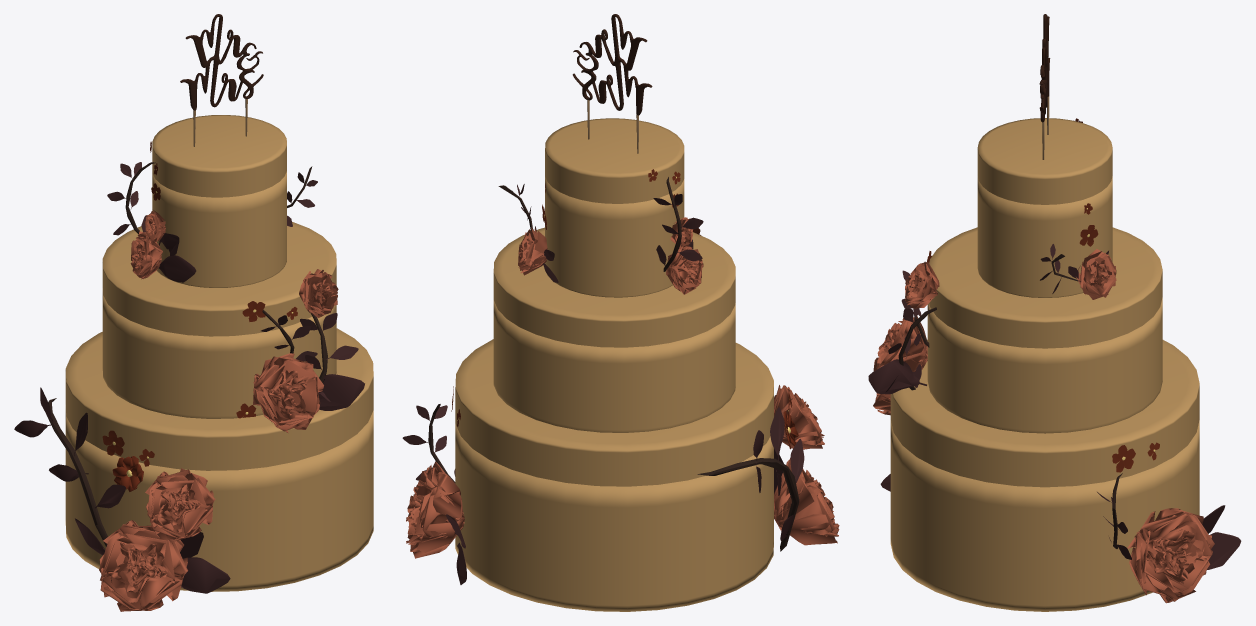
Rendered from 3-tier-caramel-roses-mrms.glb.
3 views of the same model, side by side, from view 1: azimuth 30°, elevation 25°; view 2: azimuth 150°, elevation 25°; view 3: azimuth 270°, elevation 25° (orthographic). The views are drawn at different scales.
Visible parts, largest first — view 1: Cylinder.022, Cylinder.014, Cylinder.021, grid.042, grid.044, grid.040, Plane.093, mrms.003, grid.043, Plane.087, Plane.091, Plane.095 (+6 smaller); view 2: Cylinder.022, Cylinder.014, Cylinder.021, grid.029, grid.042, mrms.003, Plane.093, grid.040, grid.045, Plane.092, grid.047, Plane.084; view 3: Cylinder.022, Cylinder.014, Cylinder.021, grid.029, grid.044, grid.047, Plane.087, grid.043, mrms.003, Plane.095, Plane.082, Plane.084.
Part boxes in pixels (<box>): Cylinder.022: <box>65,328,373,591</box>; Cylinder.014: <box>102,222,336,418</box>; Cylinder.021: <box>152,115,286,287</box>; grid.042: <box>99,520,187,611</box>; grid.044: <box>253,353,323,432</box>; grid.040: <box>145,468,215,542</box>; Plane.093: <box>14,387,125,555</box>; mrms.003: <box>180,14,263,146</box>; grid.043: <box>299,269,338,317</box>; Plane.087: <box>318,374,364,410</box>; Plane.091: <box>181,557,230,593</box>; Plane.095: <box>300,313,358,401</box>; Cylinder.022: <box>455,339,773,611</box>; Cylinder.014: <box>493,227,735,432</box>; Cylinder.021: <box>545,118,684,297</box>; grid.029: <box>406,461,464,558</box>; grid.042: <box>774,458,839,545</box>; mrms.003: <box>572,14,652,153</box>; Plane.093: <box>697,407,804,551</box>; grid.040: <box>774,385,824,449</box>; grid.045: <box>666,246,703,294</box>; Plane.092: <box>653,177,703,271</box>; grid.047: <box>518,228,547,275</box>; Plane.084: <box>402,404,455,483</box>; Cylinder.022: <box>890,339,1199,611</box>; Cylinder.014: <box>927,227,1162,433</box>; Cylinder.021: <box>977,118,1112,297</box>; grid.029: <box>1127,508,1214,603</box>; grid.044: <box>873,316,927,371</box>; grid.047: <box>1076,249,1116,299</box>; Plane.087: <box>868,359,926,394</box>; grid.043: <box>905,261,939,308</box>; mrms.003: <box>1039,14,1050,159</box>; Plane.095: <box>885,307,936,392</box>; Plane.082: <box>1207,532,1241,569</box>; Plane.084: <box>1097,473,1131,559</box>.
Size of the model in its own units: 5.28 by 7.71 by 4.9.
